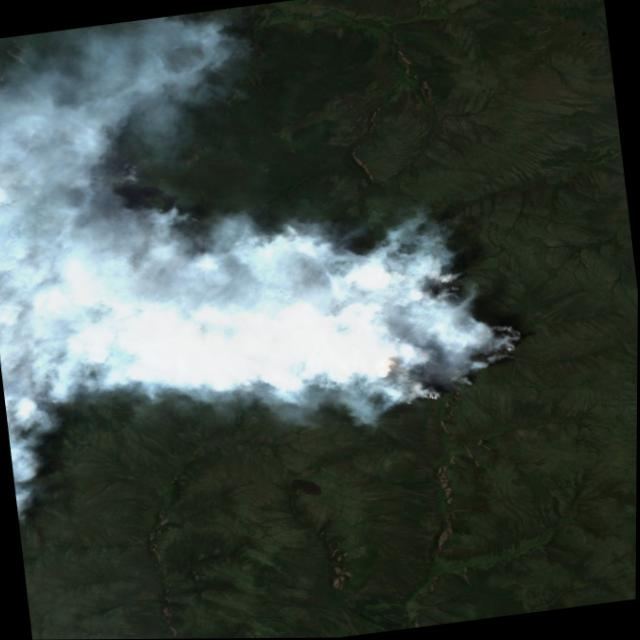fire: (39, 181, 542, 461)
